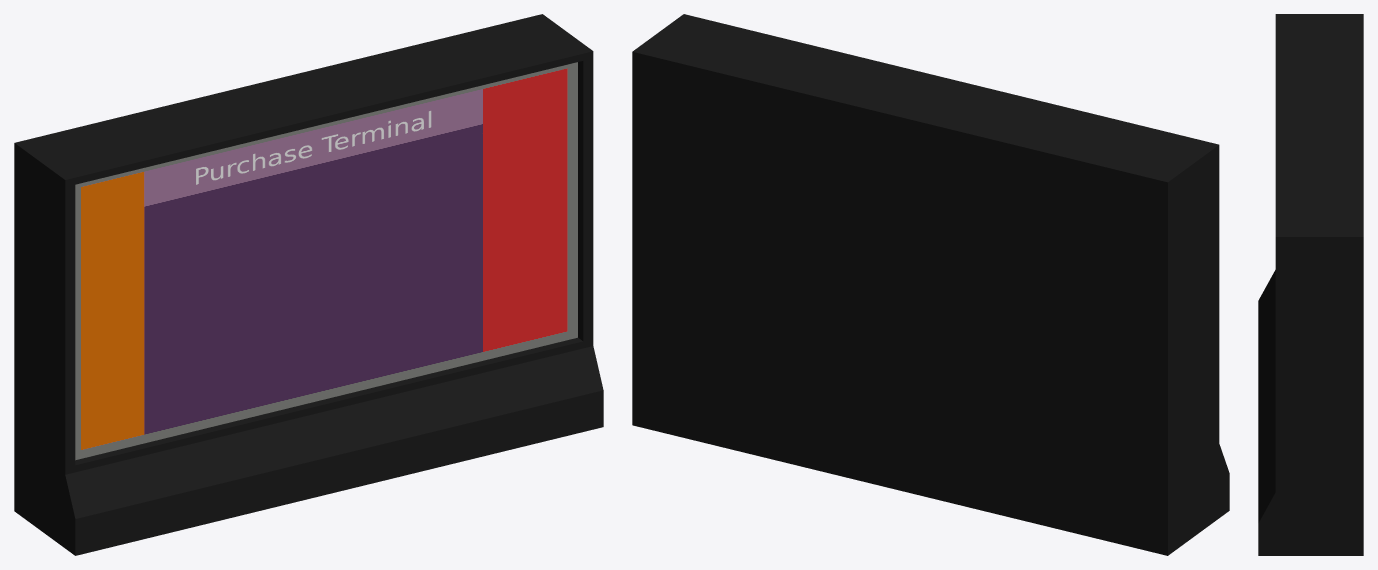
The model's file is purchase_terminal.obj.
3 views of the same model, side by side, from view 1: azimuth 30°, elevation 25°; view 2: azimuth 150°, elevation 25°; view 3: azimuth 270°, elevation 25° (orthographic). The views are drawn at different scales.
Visible parts, largest first — view 1: Cube; view 2: Cube; view 3: Cube.
Boxes of the visible parts, x1=… form: Cube: x1=14, y1=14, x2=603, y2=555; Cube: x1=632, y1=14, x2=1229, y2=555; Cube: x1=1258, y1=14, x2=1363, y2=555.
Bounding box in the file's own units: 1.5 × 1 × 0.3.
